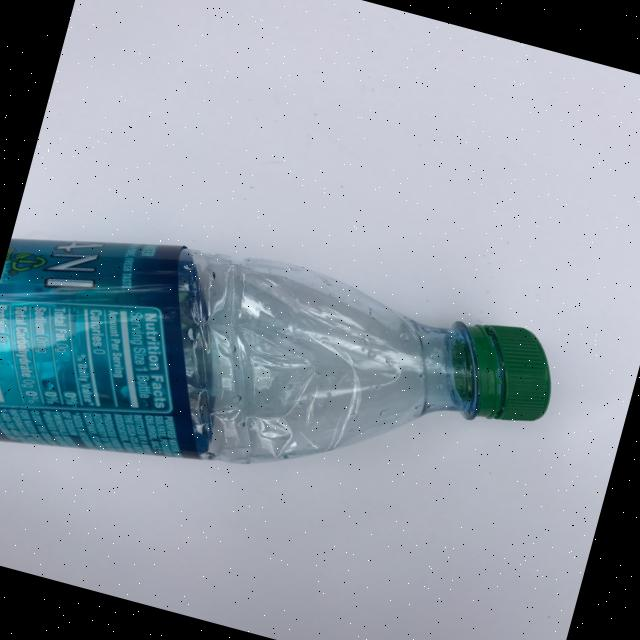plastic: (0, 190, 566, 584)
